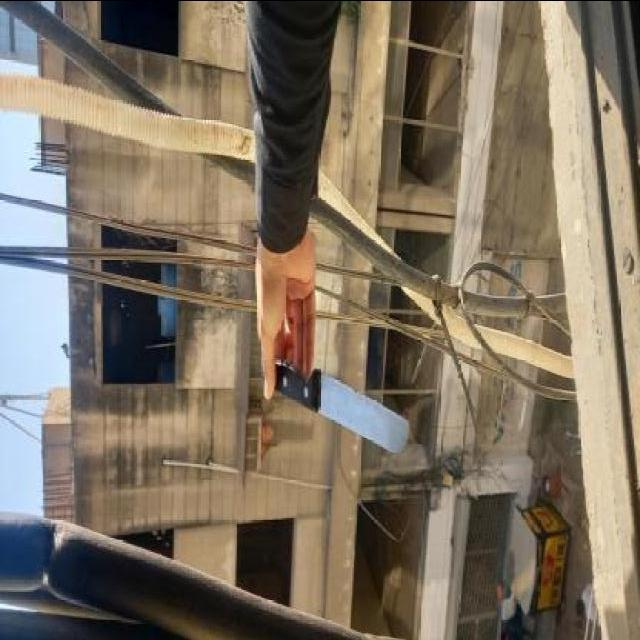Knife: (260, 358, 409, 452)
